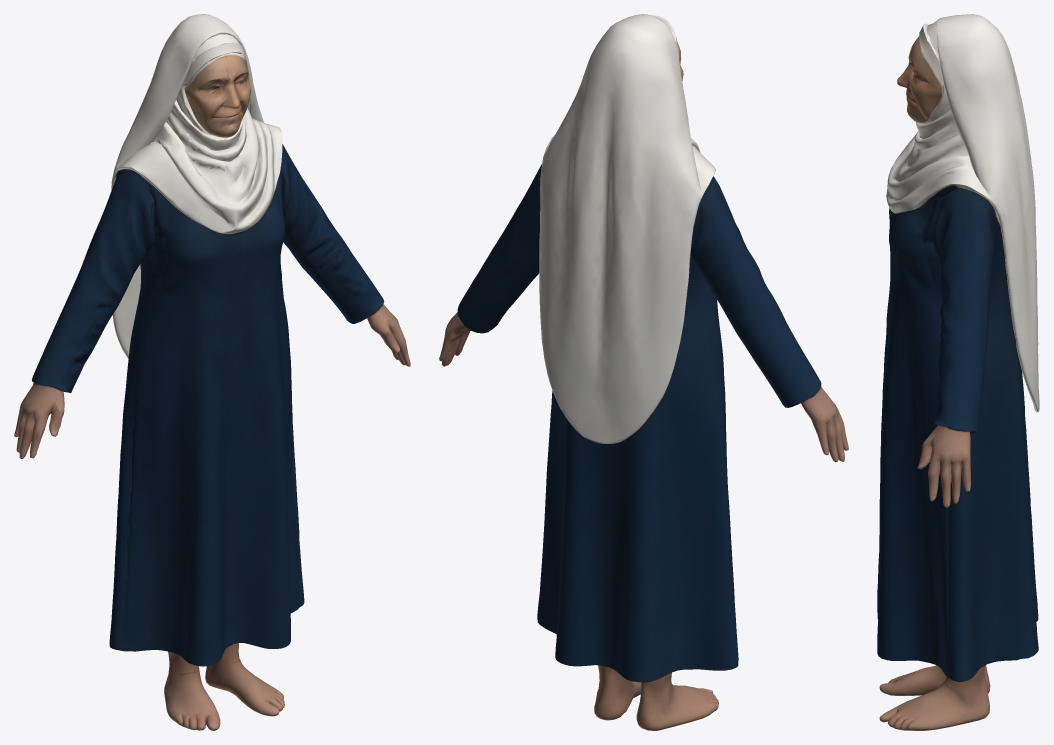
Rendered from femme_3.glb.
3 views of the same model, side by side, from view 1: azimuth 30°, elevation 25°; view 2: azimuth 150°, elevation 25°; view 3: azimuth 270°, elevation 25° (orthographic). The views are drawn at different scales.
Parts seen in each view (by area): view 1: Mesh; view 2: Mesh; view 3: Mesh.
Part boxes in pixels (x1,y1,x2,y2): Mesh: (14, 14, 410, 730); Mesh: (439, 14, 848, 730); Mesh: (877, 14, 1039, 730).
Bounding box in the file's own units: 1.14 × 1.9 × 0.4049.
Materials: 1 (1 with a texture image).
